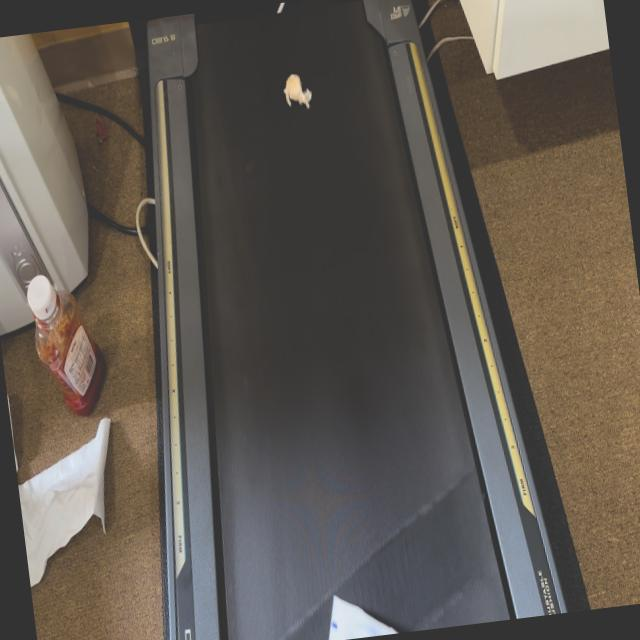Recycle: (320, 586, 400, 640)
Trash: (281, 70, 313, 112)
